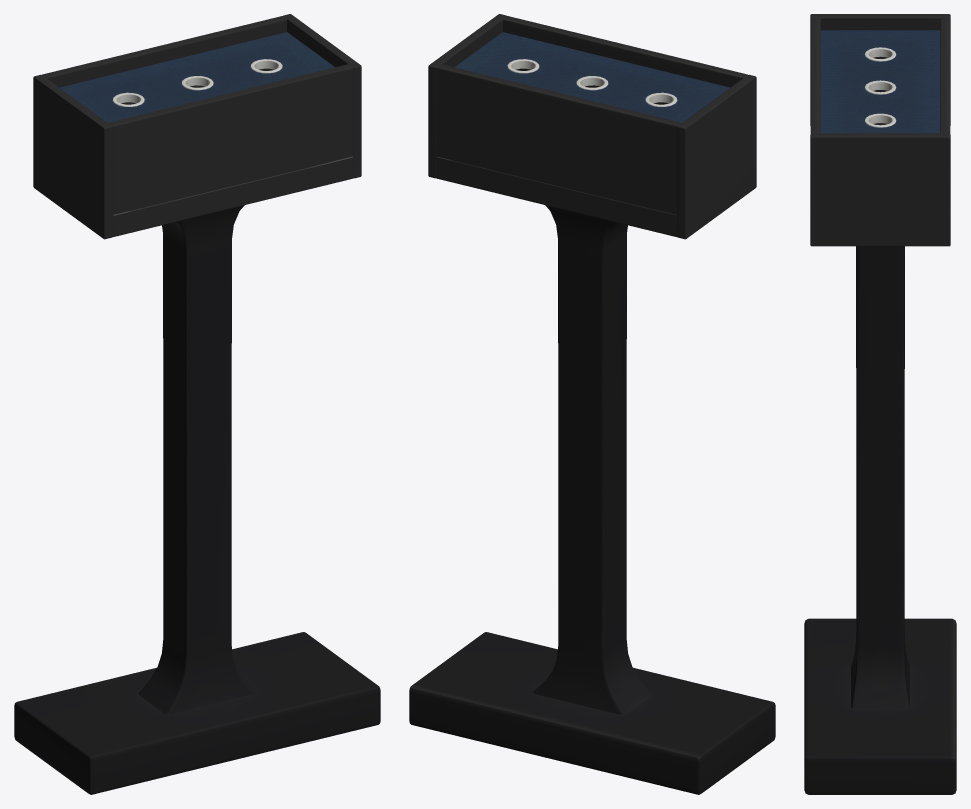
Rendered from DartGame_Table.fbx.
3 views of the same model, side by side, from view 1: azimuth 30°, elevation 25°; view 2: azimuth 150°, elevation 25°; view 3: azimuth 270°, elevation 25° (orthographic).
Visible parts, largest first — view 1: DartGame_Table; view 2: DartGame_Table; view 3: DartGame_Table.
Boxes of the visible parts, x1=… form: DartGame_Table: x1=14, y1=14, x2=380, y2=794; DartGame_Table: x1=409, y1=14, x2=775, y2=794; DartGame_Table: x1=804, y1=14, x2=956, y2=794.
Size of the model in its own units: 32.64 by 70.74 by 15.02.
